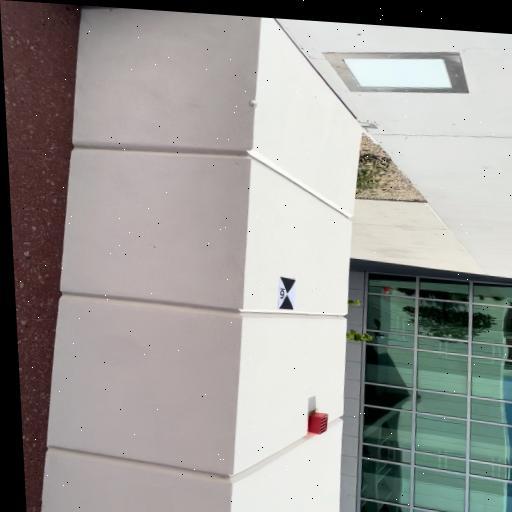target6: (278, 277, 296, 309)
